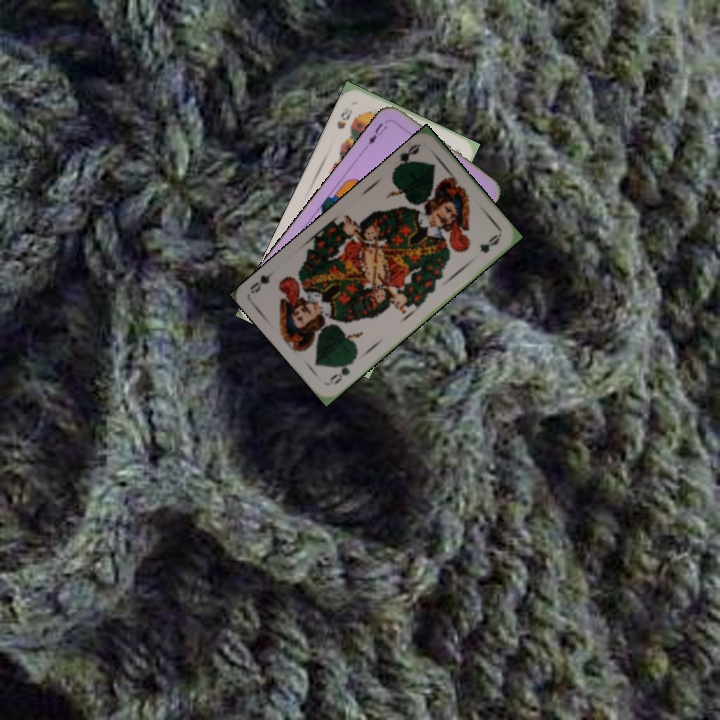EU: (362, 118, 389, 150)
GO: (325, 354, 357, 388), (390, 140, 422, 172)
S8: (332, 103, 355, 132)
